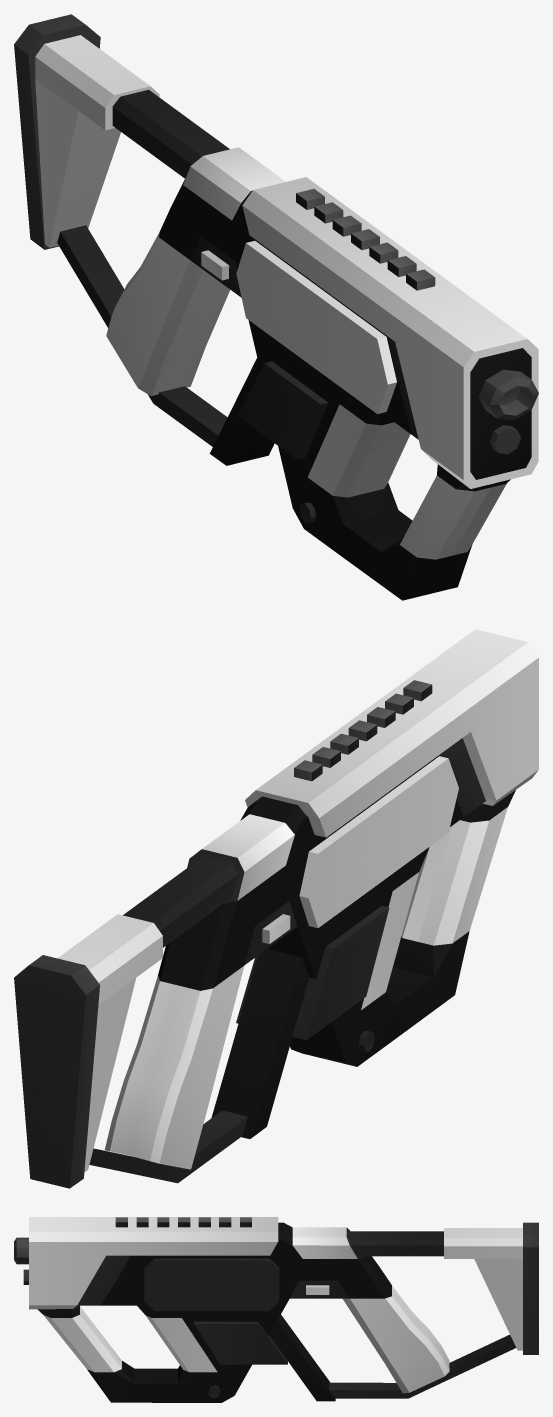
The model's file is SMGBody_mesh.fbx.
3 views of the same model, one above another, from view 1: azimuth 30°, elevation 25°; view 2: azimuth 150°, elevation 25°; view 3: azimuth 270°, elevation 25° (orthographic). The views are drawn at different scales.
Parts seen in each view (by area): view 1: SMGBody_mesh; view 2: SMGBody_mesh; view 3: SMGBody_mesh.
Boxes of the visible parts, x1=… form: SMGBody_mesh: x1=14, y1=14, x2=538, y2=600; SMGBody_mesh: x1=14, y1=629, x2=538, y2=1188; SMGBody_mesh: x1=14, y1=1217, x2=538, y2=1402.
Bounding box in the file's own units: 3.74 × 14.71 × 39.84.
